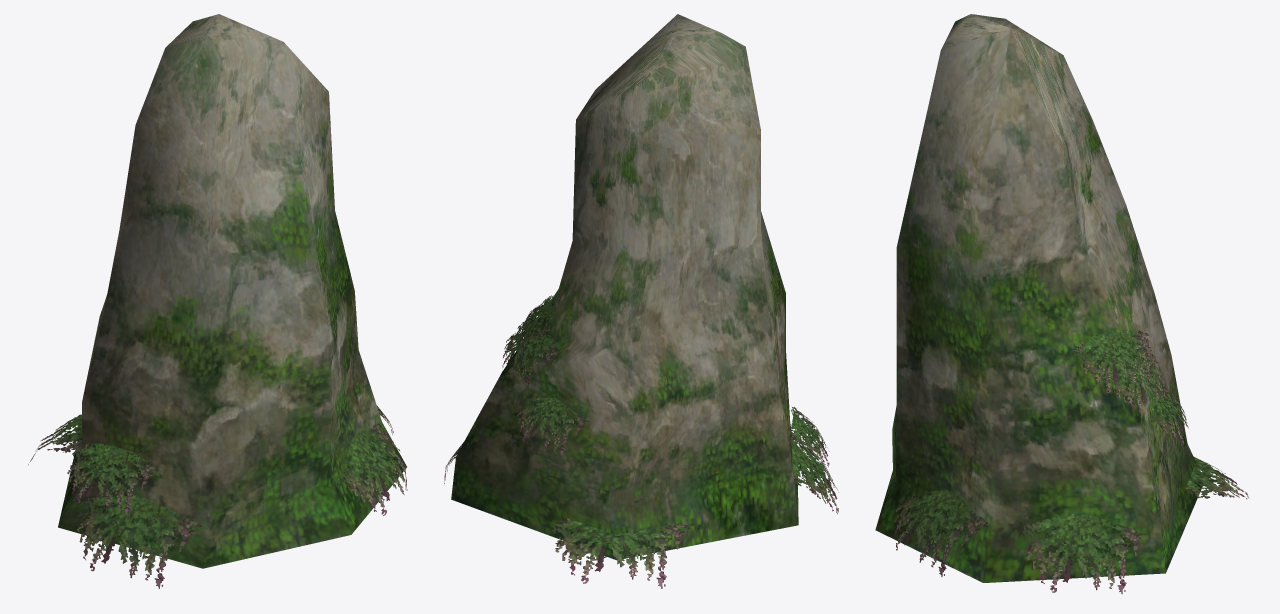
The model's file is cj_graveyard_rock01.glb.
The picture shows the model from 3 angles, left to right: view 1: azimuth 30°, elevation 25°; view 2: azimuth 150°, elevation 25°; view 3: azimuth 270°, elevation 25°; orthographic projection. The views are drawn at different scales.
Visible parts, largest first — view 1: cj_graveyard_rock01, cj_graveyard_rock01_grass03; view 2: cj_graveyard_rock01, cj_graveyard_rock01_grass03; view 3: cj_graveyard_rock01, cj_graveyard_rock01_grass03.
Boxes of the visible parts, x1=… form: cj_graveyard_rock01: x1=58, y1=14, x2=406, y2=568; cj_graveyard_rock01_grass03: x1=28, y1=406, x2=407, y2=588; cj_graveyard_rock01: x1=451, y1=14, x2=798, y2=560; cj_graveyard_rock01_grass03: x1=444, y1=295, x2=838, y2=588; cj_graveyard_rock01: x1=875, y1=14, x2=1202, y2=582; cj_graveyard_rock01_grass03: x1=893, y1=329, x2=1249, y2=594.
Bounding box in the file's own units: 13.26 × 17.99 × 12.57.
Materials: 2 (2 with a texture image).
